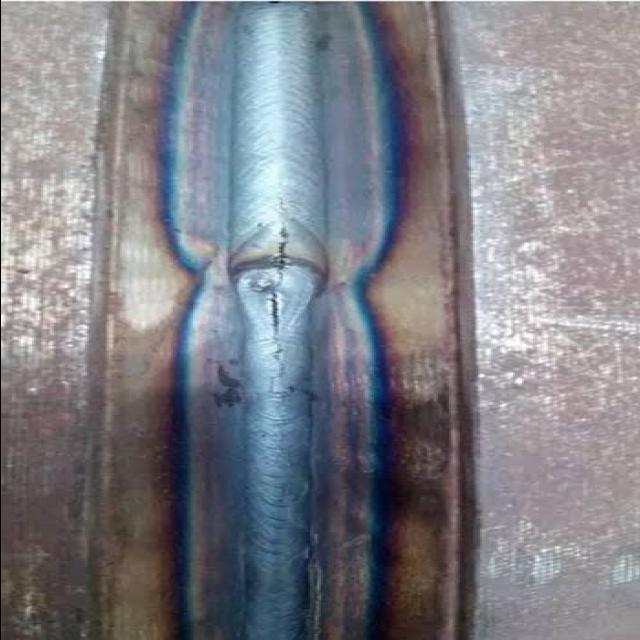Crack: (259, 220, 294, 396)
